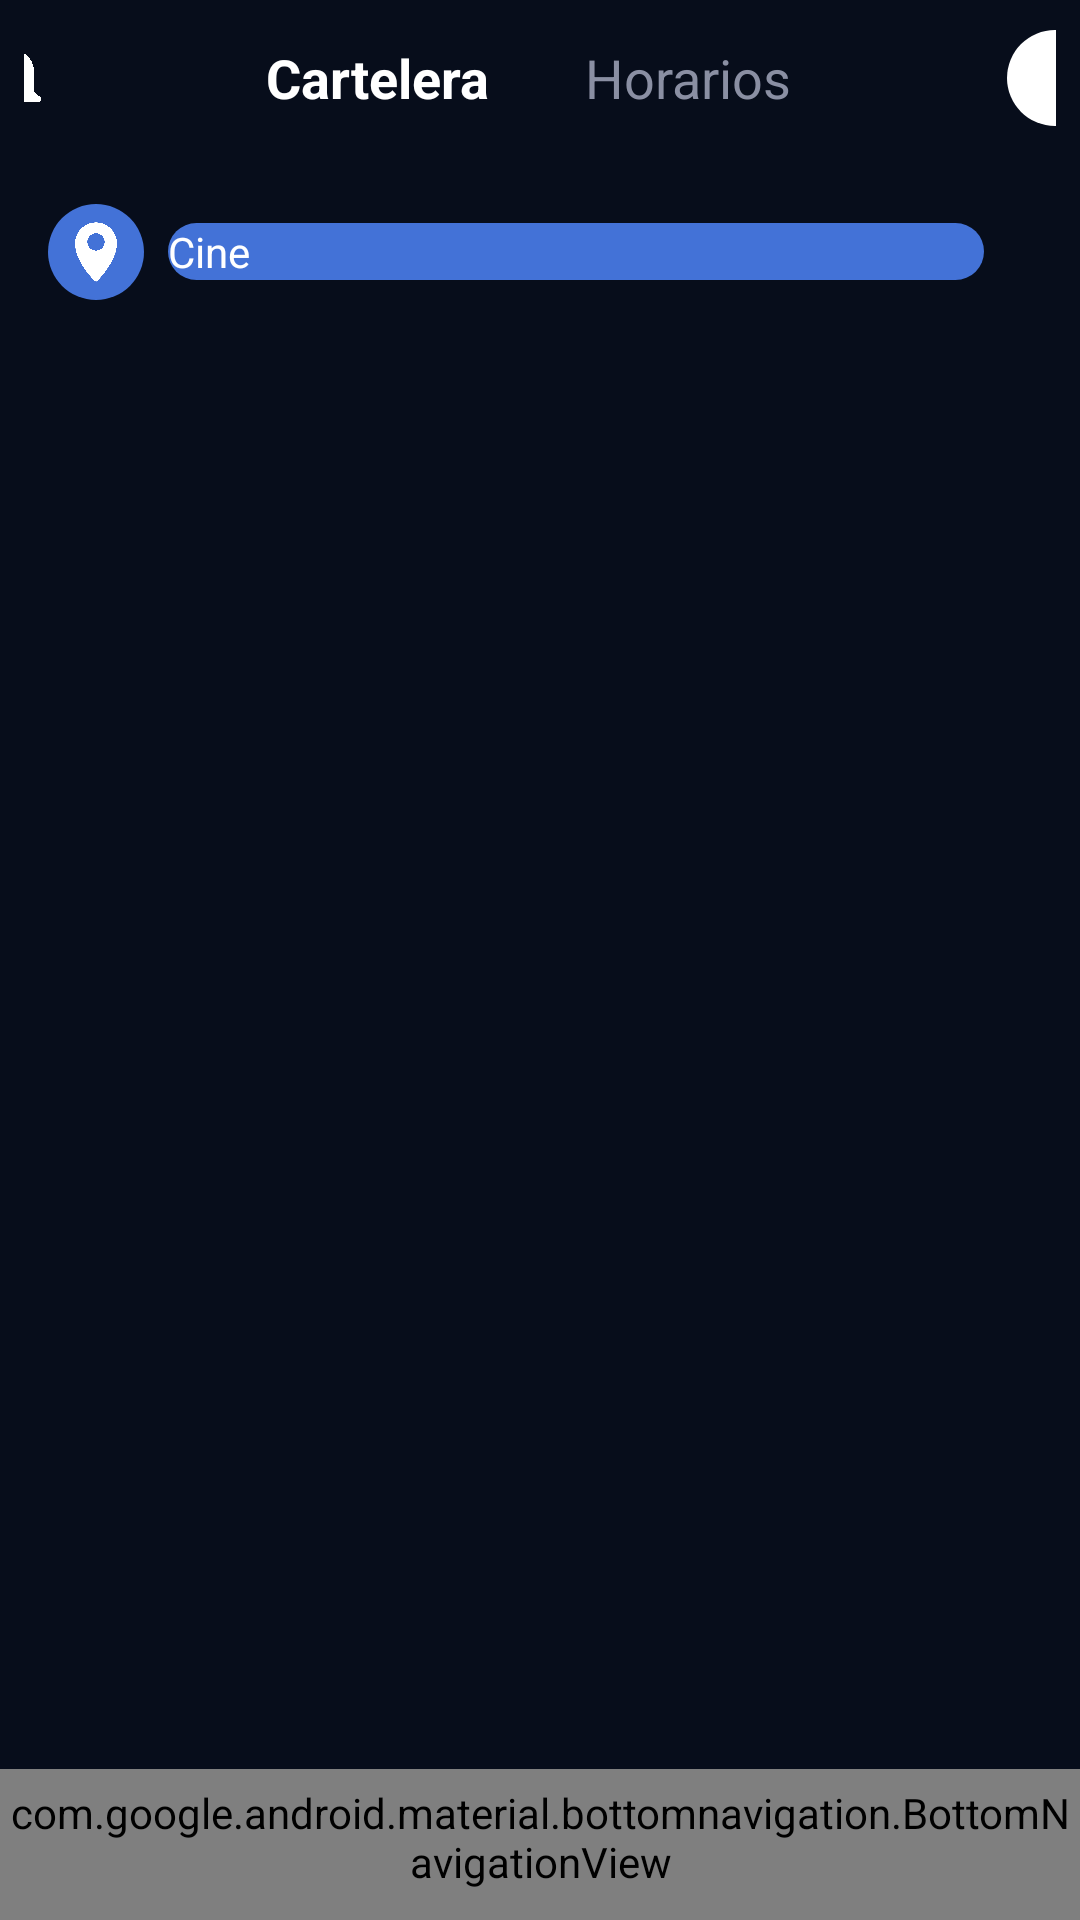

Screen size 1080px x 1920px. Icon name, then its box in pixels as (x1, y1, x2, y2):
direccion: (48, 204, 144, 300)
